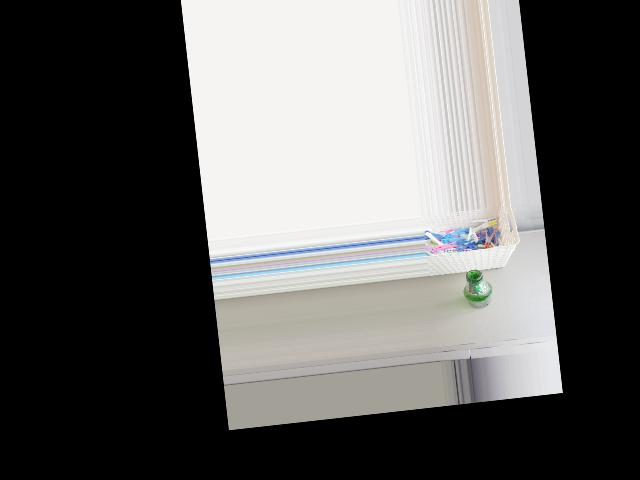beer: (460, 268, 494, 310)
